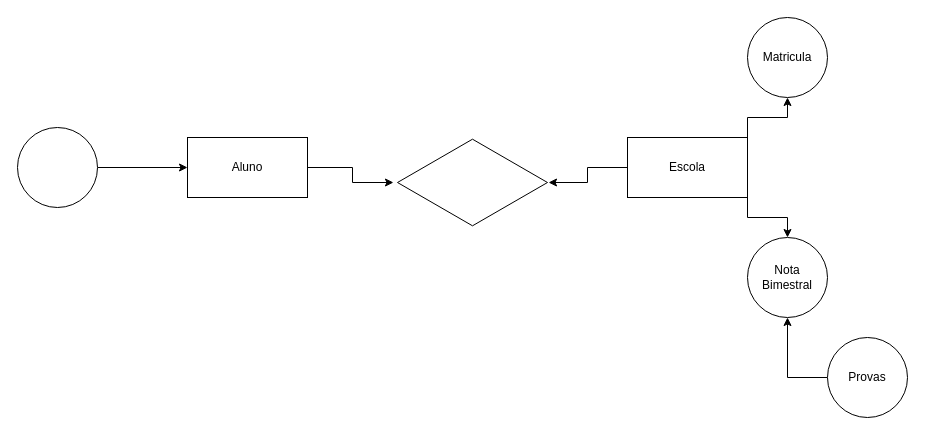
Some shapes in this 925 by 435 pixel diagram are drawn without their labels. The shapes that lost their labels are listed below. From the top down, each one's centre as x and y in pixels, then its label:
At pixel 57 167: "Id da Matricula".
At pixel 472 182: "Estuda".
